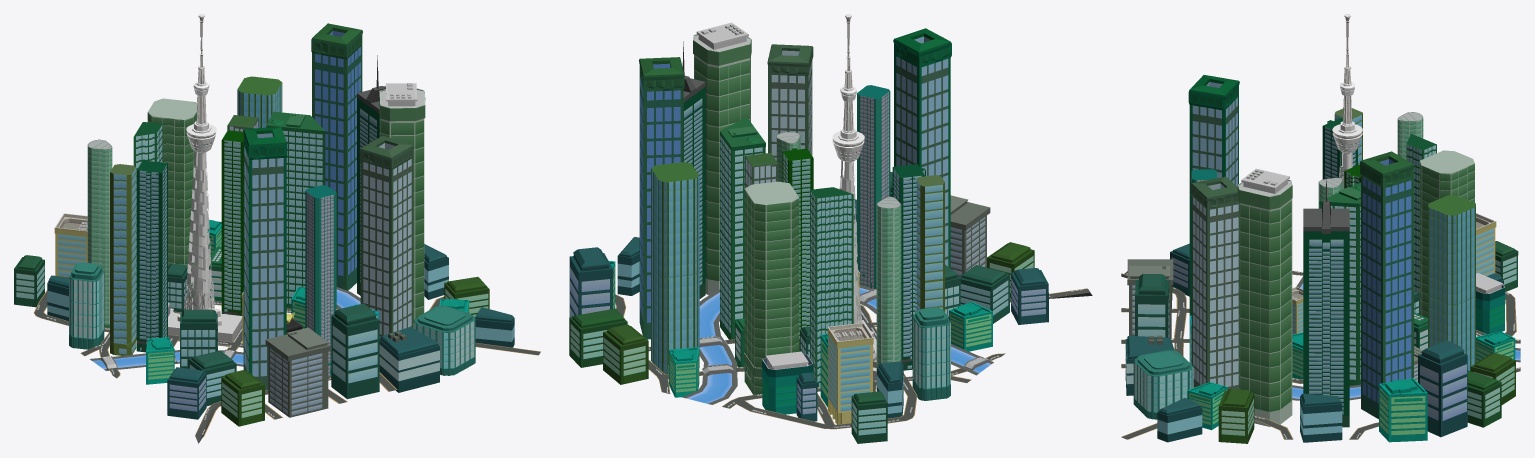
3 views of the same model, side by side, from view 1: azimuth 30°, elevation 25°; view 2: azimuth 150°, elevation 25°; view 3: azimuth 270°, elevation 25° (orthographic). The views are drawn at different scales.
Visible parts, largest first — view 1: Cube.088, tokyoMid.001, tokyoRooftops.003, streetTokyo.001, river.002; view 2: Cube.088, tokyoMid.001, river.002, streetTokyo.001, tokyoRooftops.003, tokyoRooftops.002; view 3: Cube.088, tokyoMid.001, streetTokyo.001, tokyoRooftops.003, river.002.
Part boxes in pixels (left/top/right/bottom): Cube.088: left=14, top=23, right=514, bottom=426; tokyoMid.001: left=87, top=76, right=336, bottom=375; tokyoRooftops.003: left=136, top=14, right=242, bottom=346; streetTokyo.001: left=34, top=290, right=540, bottom=443; river.002: left=90, top=287, right=360, bottom=370; Cube.088: left=569, top=22, right=1048, bottom=443; tokyoMid.001: left=651, top=85, right=944, bottom=394; river.002: left=682, top=285, right=993, bottom=404; streetTokyo.001: left=615, top=258, right=1092, bottom=429; tokyoRooftops.003: left=832, top=14, right=876, bottom=380; tokyoRooftops.002: left=744, top=274, right=912, bottom=394; Cube.088: left=1125, top=75, right=1518, bottom=443; tokyoMid.001: left=1191, top=108, right=1475, bottom=370; streetTokyo.001: left=1121, top=271, right=1520, bottom=439; tokyoRooftops.003: left=1332, top=14, right=1362, bottom=188; river.002: left=1292, top=276, right=1520, bottom=400.
Size of the model in its own units: 1 by 0.8904 by 1.
